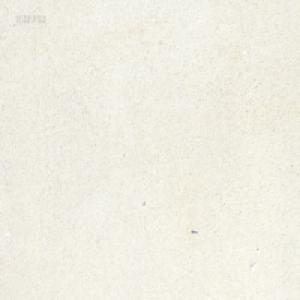Nail: (191, 228, 198, 234)
